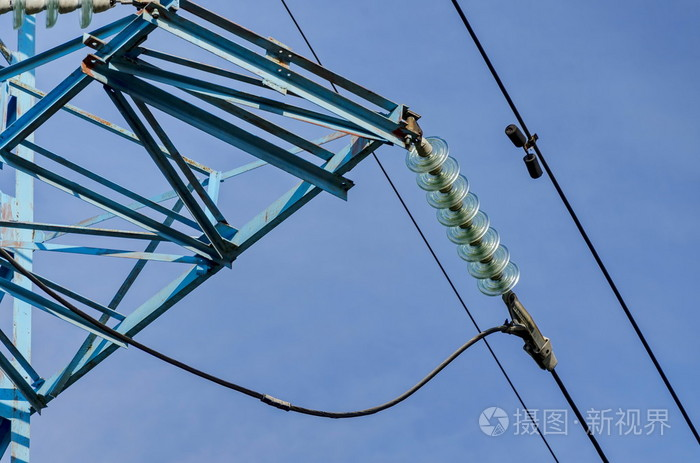insulator: (408, 136, 520, 296)
